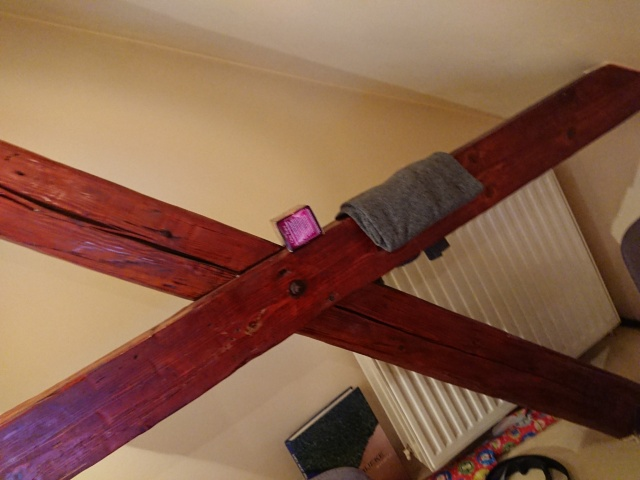Franck Black Currant Tea 60g: (267, 202, 328, 254)
